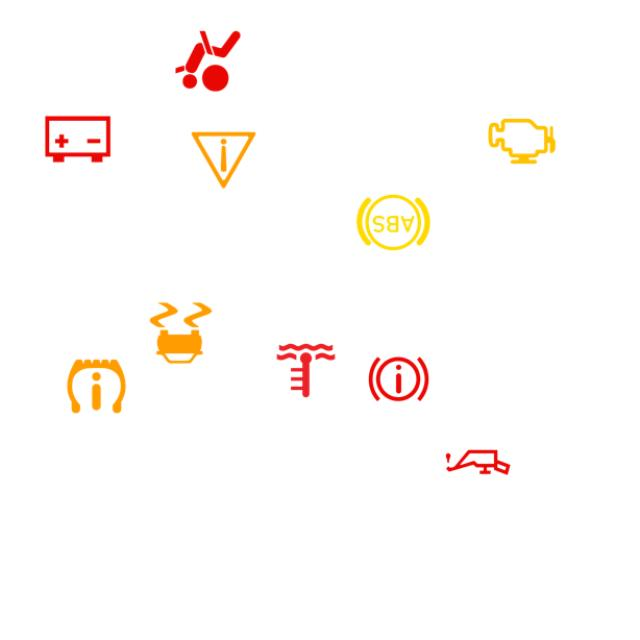Anti Lock Braking System: (353, 182, 434, 263)
Braking System Issue: (358, 339, 439, 419)
Charging System Issue: (37, 99, 118, 179)
Check Engine: (481, 101, 562, 181)
Electronic Stability Problem -ESP-: (141, 293, 221, 373)
Engine Overheating Warning Light: (266, 330, 346, 411)
Low Engine Oil Warning Light: (438, 422, 518, 503)
Low Tire Pressure Warning Light: (56, 346, 137, 426)
Master warning light: (183, 120, 264, 200)
SRS-Airbag: (168, 21, 248, 101)
